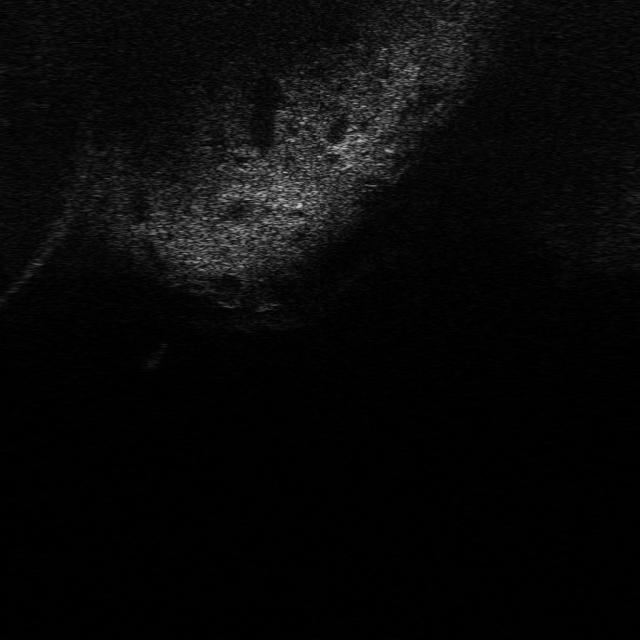cube: (244, 284, 282, 315)
cylinder: (134, 337, 170, 371)
